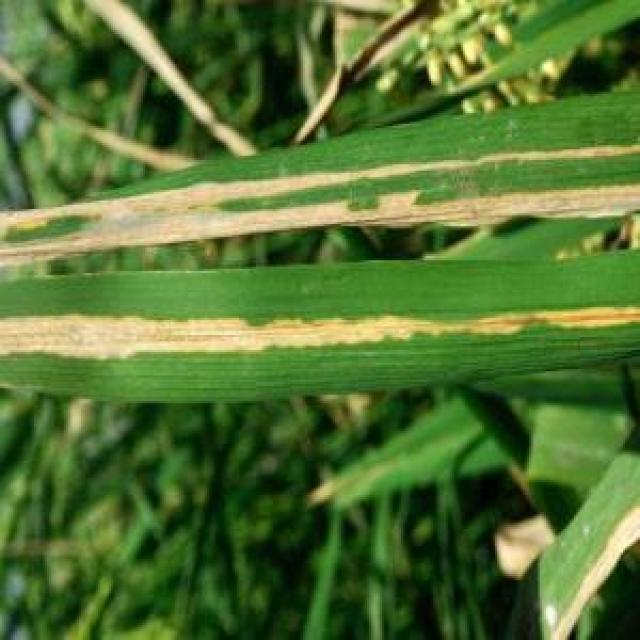leaf blight: (2, 136, 640, 269), (2, 273, 640, 369)
